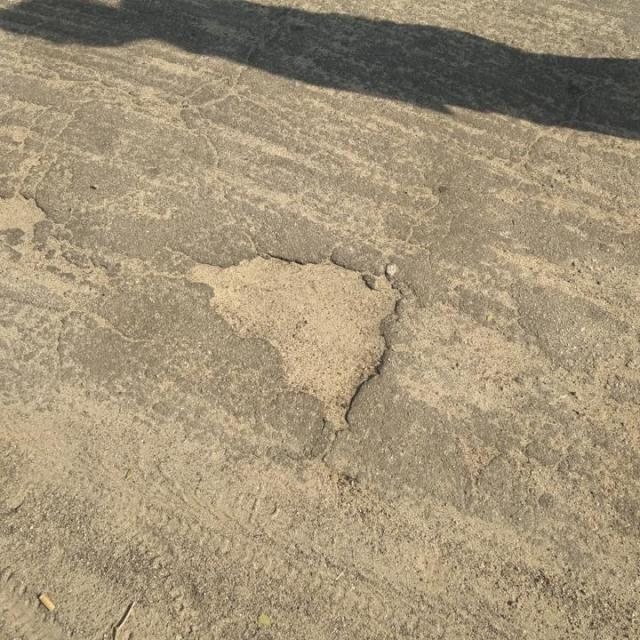Pothole: (183, 251, 414, 433), (2, 193, 54, 238)
